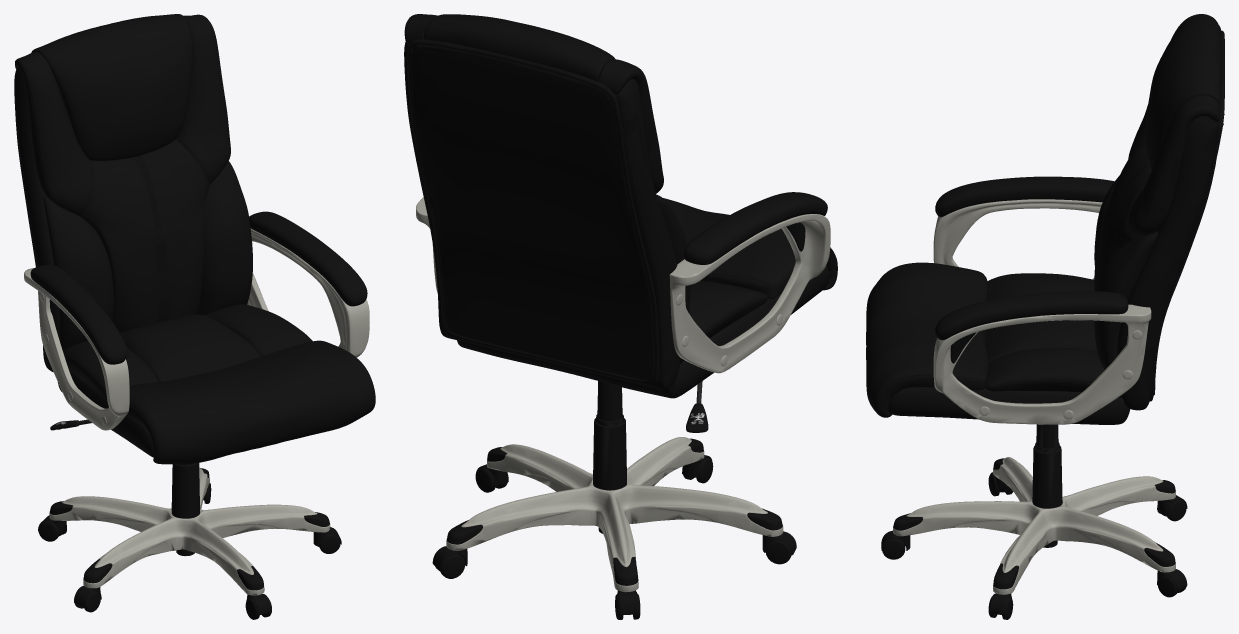
The model's file is B00XBC3BF0.glb.
3 views of the same model, side by side, from view 1: azimuth 30°, elevation 25°; view 2: azimuth 150°, elevation 25°; view 3: azimuth 270°, elevation 25° (orthographic). The views are drawn at different scales.
Parts seen in each view (by area): view 1: RootNode; view 2: RootNode; view 3: RootNode.
Boxes of the visible parts, <box> form: RootNode: <box>14,14,375,619</box>; RootNode: <box>404,14,837,619</box>; RootNode: <box>866,14,1224,619</box>.
Bounding box in the file's own units: 0.6629 × 1.16 × 0.7392.
Materials: 1 (1 with a texture image).
